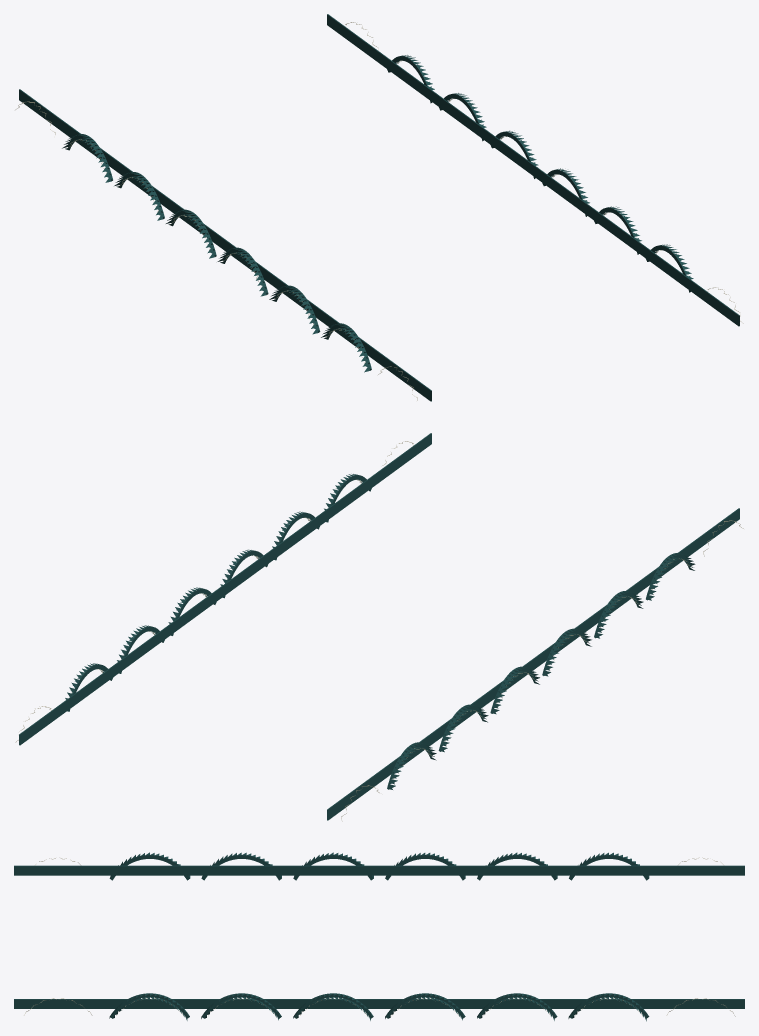
File: core-vault.glb
The picture shows the model from 3 angles, top to bottom: view 1: azimuth 30°, elevation 25°; view 2: azimuth 150°, elevation 25°; view 3: azimuth 270°, elevation 25°; orthographic projection. The views are drawn at different scales.
Visible parts, largest first — view 1: core-vault; view 2: core-vault; view 3: core-vault.
Boxes of the visible parts, x1=… form: core-vault: x1=15, y1=14, x2=743, y2=401; core-vault: x1=15, y1=433, x2=743, y2=821; core-vault: x1=14, y1=852, x2=744, y2=1021.
Size of the model in its own units: 18.52 by 1.53 by 39.8.
